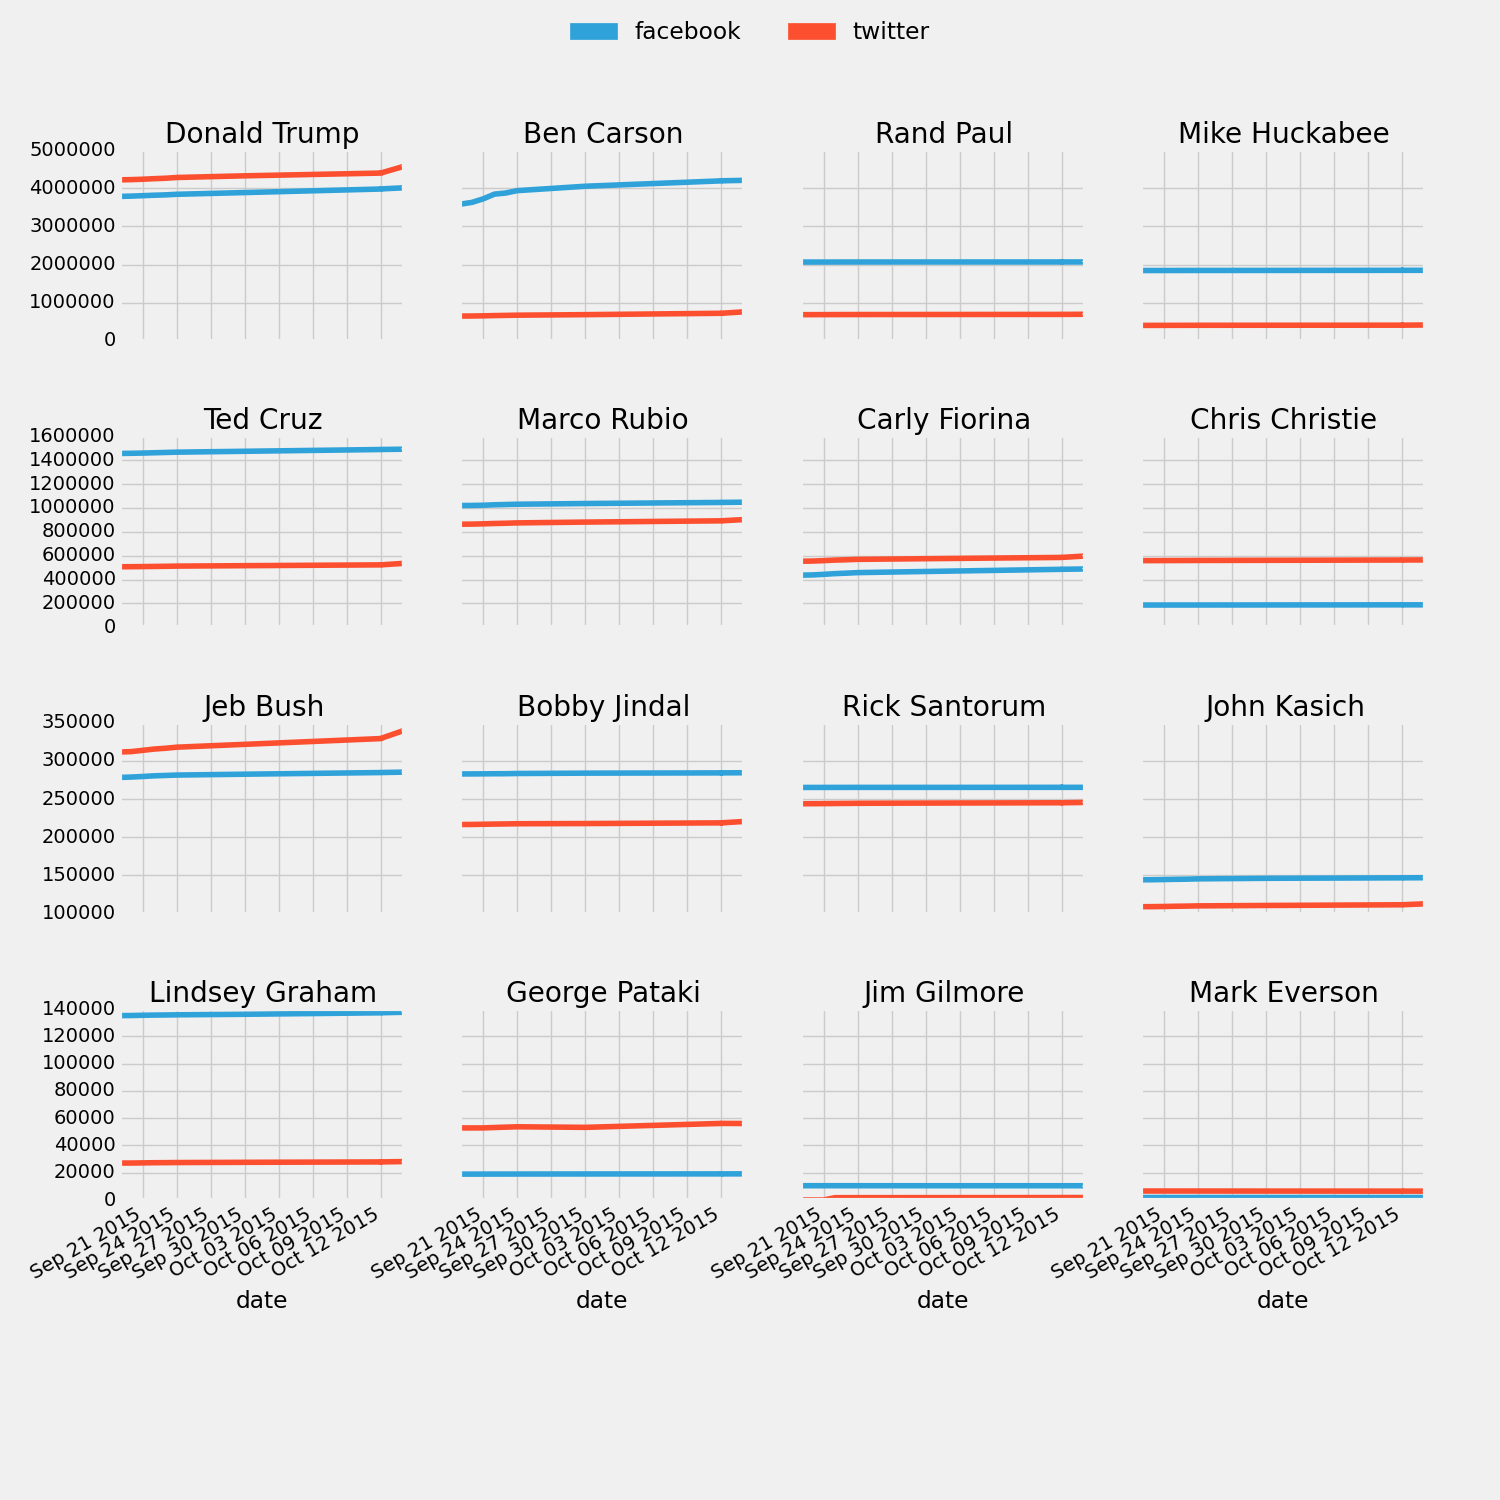

The page's visual inventory and layout, read from the dashboard file:
{"tool":"tableau","page":{"name":"Dashboard 1","canvas":[1000,1000],"units":"permille","ordinal":0},"visuals":[{"type":"worksheet","title":"Sheet 1","mark":"Automatic","rows":["facebook"],"cols":["name"],"box":[0,0,851.2,1000]},{"type":"legend","title":"Sheet 1","param":"[textscan.42291.641239907411].[none:party:nk]","box":[851.2,0,148.8,108.9]}]}

Visuals, with their boxes on the dashboard's canvas, which has no fixed pixel size, in thousandths of its width and height (x1, y1, x2, y2). These are canvas units, not pixel positions in the 1500x1500 screenshot, which may show the page scaled, cropped or inside an application window:
"Sheet 1" worksheet: 0/0/851/1000
"Sheet 1" legend: 851/0/1000/109
